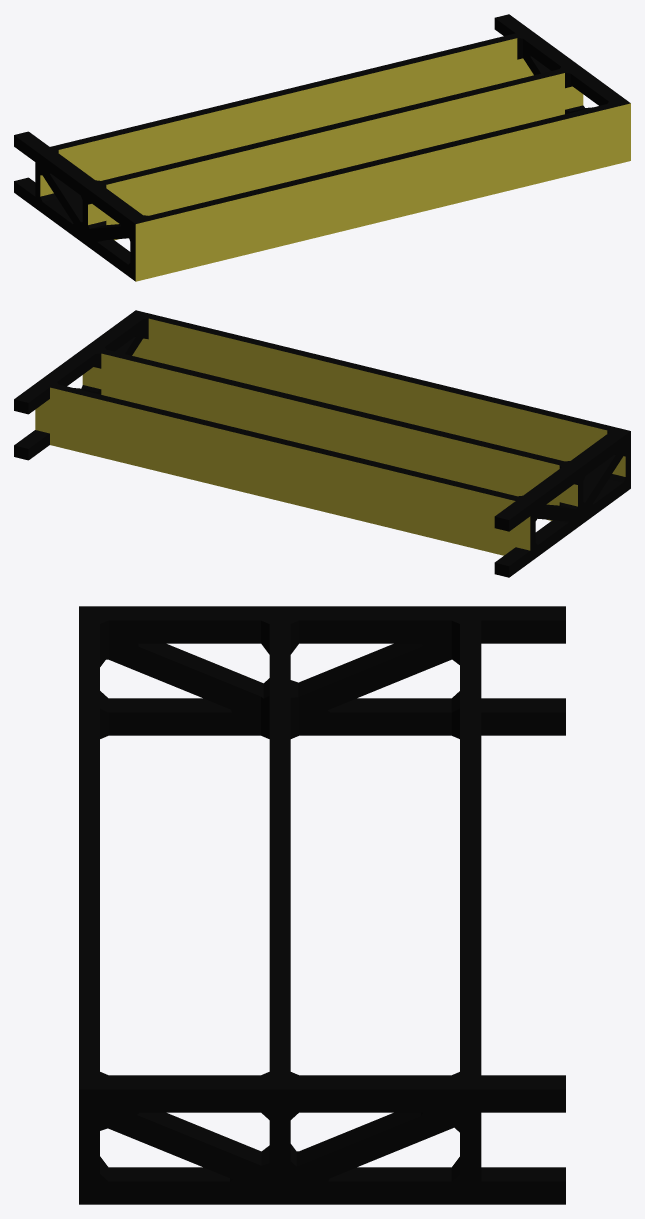
File: module_shelf.gltf
3 renders of one model, top to bottom at view 1: azimuth 30°, elevation 25°; view 2: azimuth 150°, elevation 25°; view 3: azimuth 270°, elevation 25°, orthographic. The views are drawn at different scales.
Visible parts, largest first — view 1: module_tray_shelf; view 2: module_tray_shelf; view 3: module_tray_shelf.
Boxes of the visible parts, x1,y1,x2,y2 form: module_tray_shelf: (14,14,630,281); module_tray_shelf: (14,310,630,577); module_tray_shelf: (79,606,565,1204).
Bounding box in the file's own units: 1.35 × 0.15 × 0.575.
